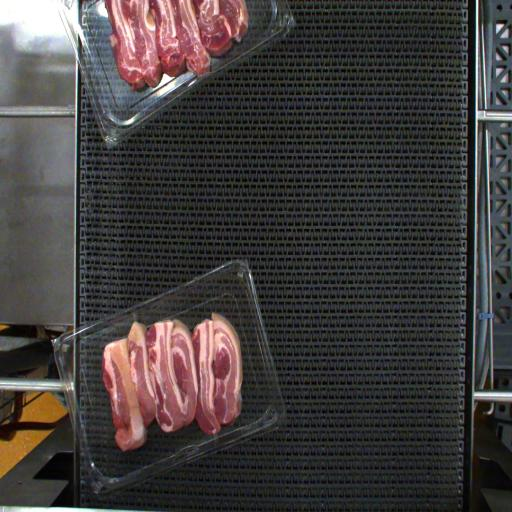packaging-error: (209, 426, 220, 442), (131, 311, 141, 326)
